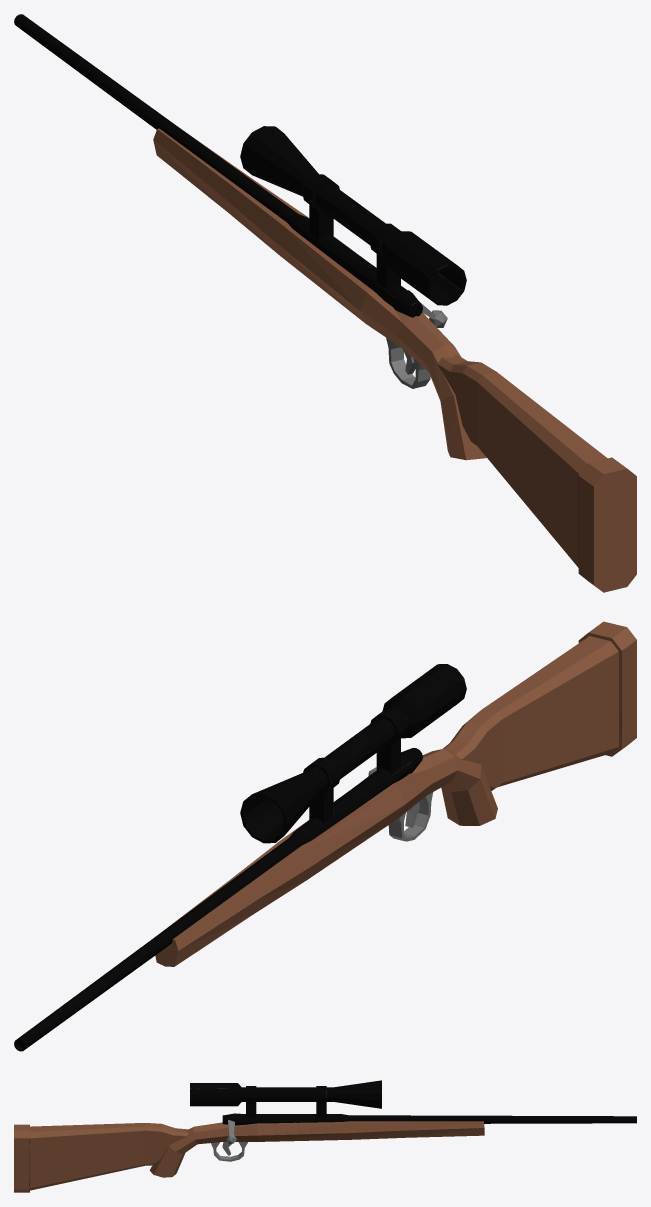
The model's file is sniper.obj.
3 renders of one model, top to bottom at view 1: azimuth 30°, elevation 25°; view 2: azimuth 150°, elevation 25°; view 3: azimuth 270°, elevation 25°, orthographic. The views are drawn at different scales.
Visible parts, largest first — view 1: Sniper_01_Cube_Sniper_01_Cube_Brown_Sniper01, Sniper_01_Cube_Sniper_01_Cube_Black_sniper01, Sniper_01_Cube_Sniper_01_Cube_Gray_Sniper_01; view 2: Sniper_01_Cube_Sniper_01_Cube_Brown_Sniper01, Sniper_01_Cube_Sniper_01_Cube_Black_sniper01, Sniper_01_Cube_Sniper_01_Cube_Gray_Sniper_01; view 3: Sniper_01_Cube_Sniper_01_Cube_Brown_Sniper01, Sniper_01_Cube_Sniper_01_Cube_Black_sniper01, Sniper_01_Cube_Sniper_01_Cube_Gray_Sniper_01.
Boxes of the visible parts, x1,y1,x2,y2 form: Sniper_01_Cube_Sniper_01_Cube_Brown_Sniper01: [153, 128, 636, 592]; Sniper_01_Cube_Sniper_01_Cube_Black_sniper01: [14, 14, 466, 317]; Sniper_01_Cube_Sniper_01_Cube_Gray_Sniper_01: [386, 302, 447, 388]; Sniper_01_Cube_Sniper_01_Cube_Brown_Sniper01: [155, 621, 636, 966]; Sniper_01_Cube_Sniper_01_Cube_Black_sniper01: [14, 664, 466, 1051]; Sniper_01_Cube_Sniper_01_Cube_Gray_Sniper_01: [368, 767, 433, 841]; Sniper_01_Cube_Sniper_01_Cube_Brown_Sniper01: [14, 1121, 484, 1192]; Sniper_01_Cube_Sniper_01_Cube_Black_sniper01: [190, 1080, 636, 1125]; Sniper_01_Cube_Sniper_01_Cube_Gray_Sniper_01: [211, 1119, 247, 1161].
Bounding box in the file's own units: 0.2807 × 0.8963 × 4.69.
Materials: 4 (3 with a texture image).
